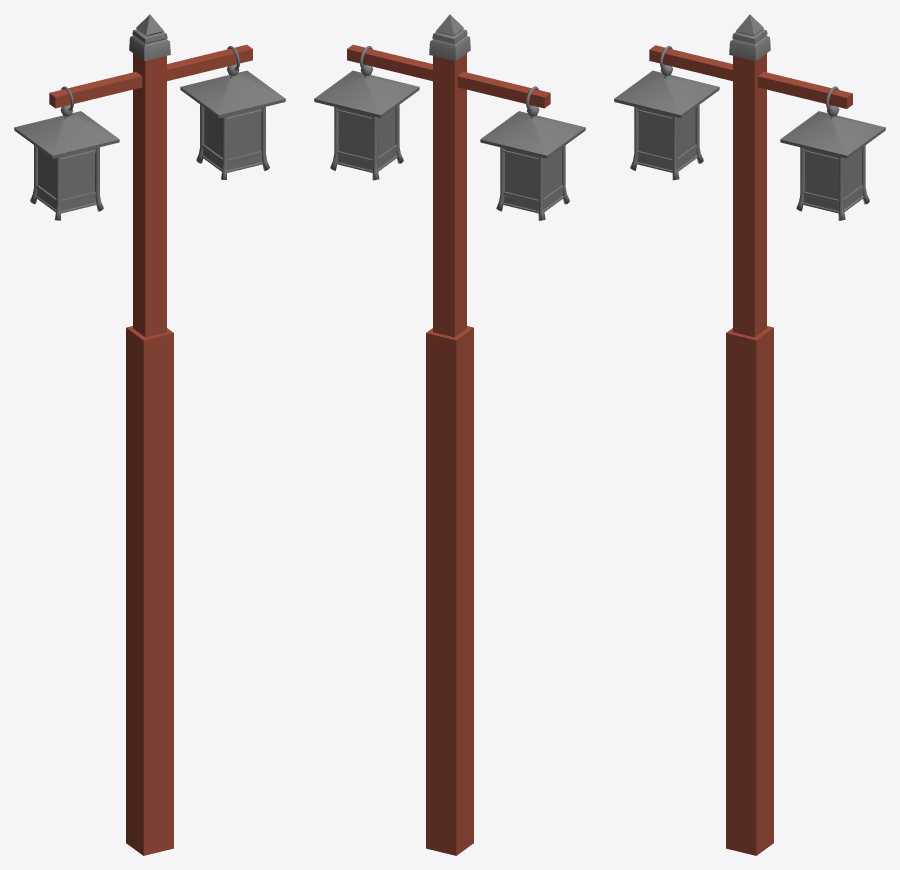
Rendered from SM_streetlamp.fbx.
3 views of the same model, side by side, from view 1: azimuth 30°, elevation 25°; view 2: azimuth 150°, elevation 25°; view 3: azimuth 330°, elevation 25° (orthographic).
Visible parts, largest first — view 1: Box463; view 2: Box463; view 3: Box463.
Part boxes in pixels (left/top/right/bottom): Box463: left=14, top=14, right=285, bottom=855; Box463: left=314, top=14, right=585, bottom=855; Box463: left=614, top=14, right=885, bottom=855.
Bounding box in the file's own units: 62.15 × 212 × 17.87.
